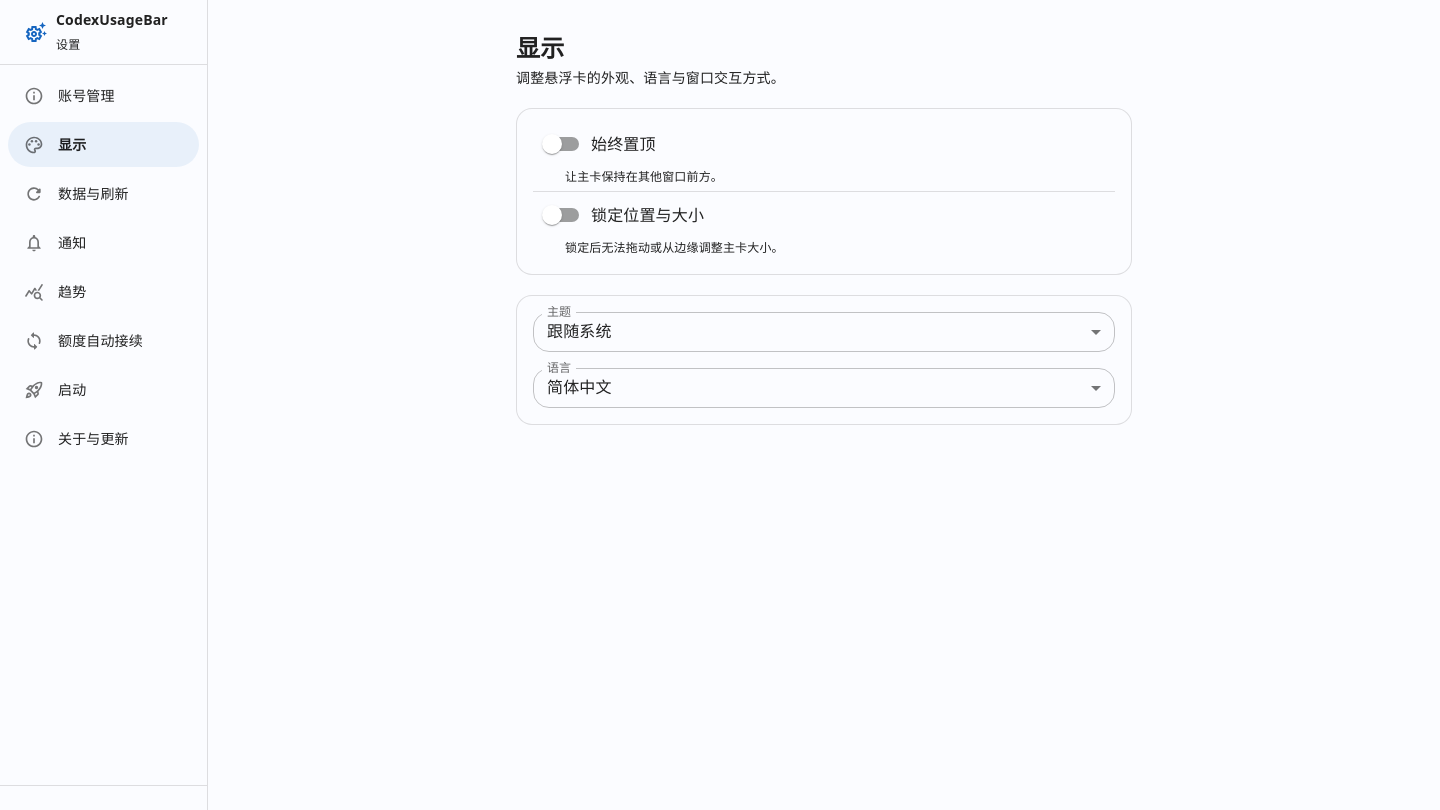
it: SettingsWindow › keeps loaded settings editable when non-critical startup reads fail
Check: the heading "显示" is shown, box [516,31,564,64]
Click the switch labelled "始终置顶" at (599, 144), box [542,133,656,155]
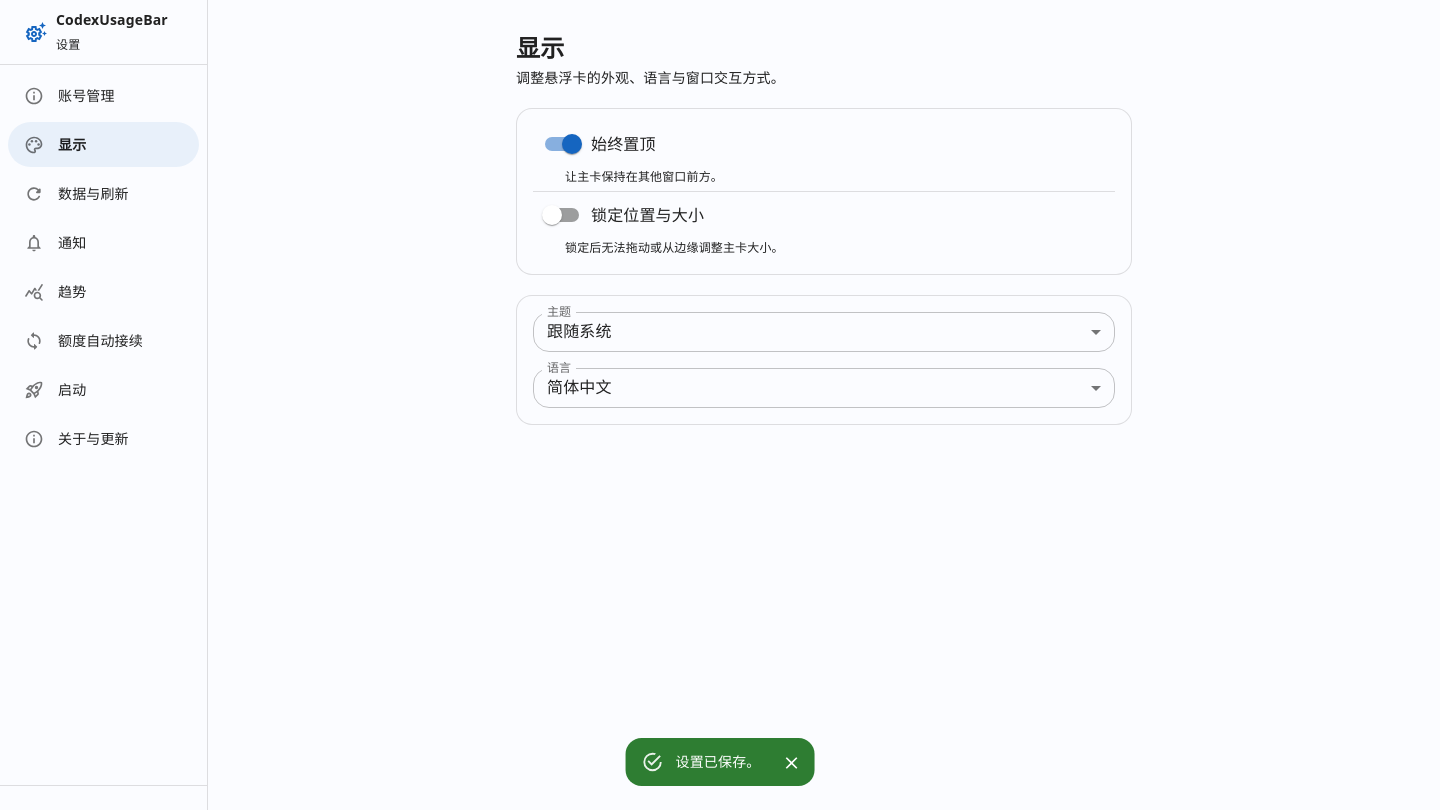
Click the button "启动" at (55, 390), box [24,380,86,400]
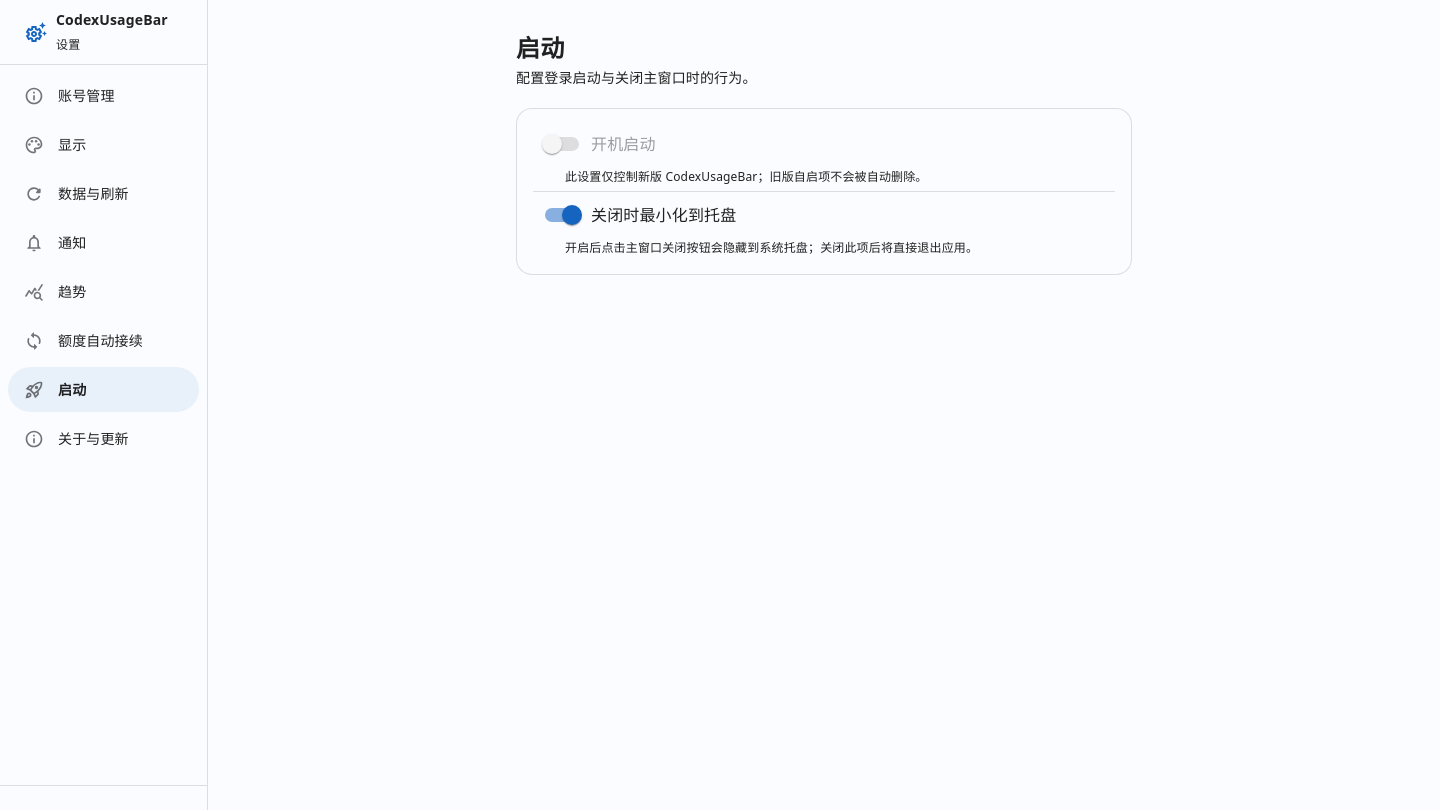
Check: the switch labelled "开机启动" is disabled, box [542,133,656,155]
